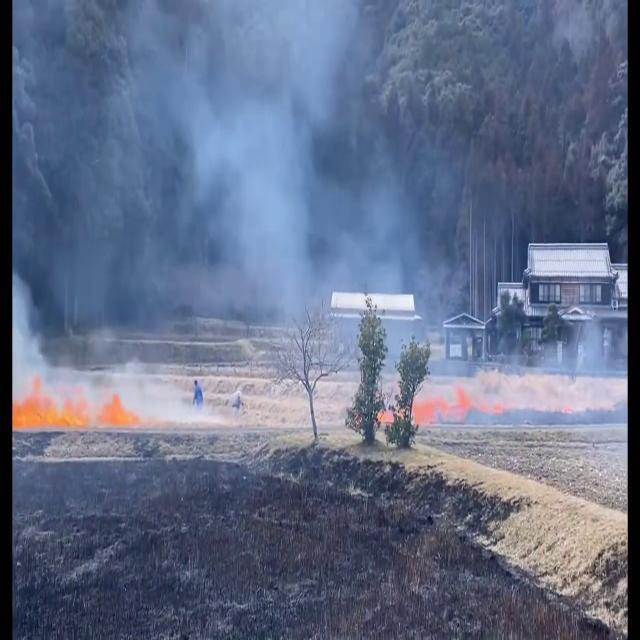Fire: (13, 378, 136, 434)
Smoke: (13, 1, 469, 417)
